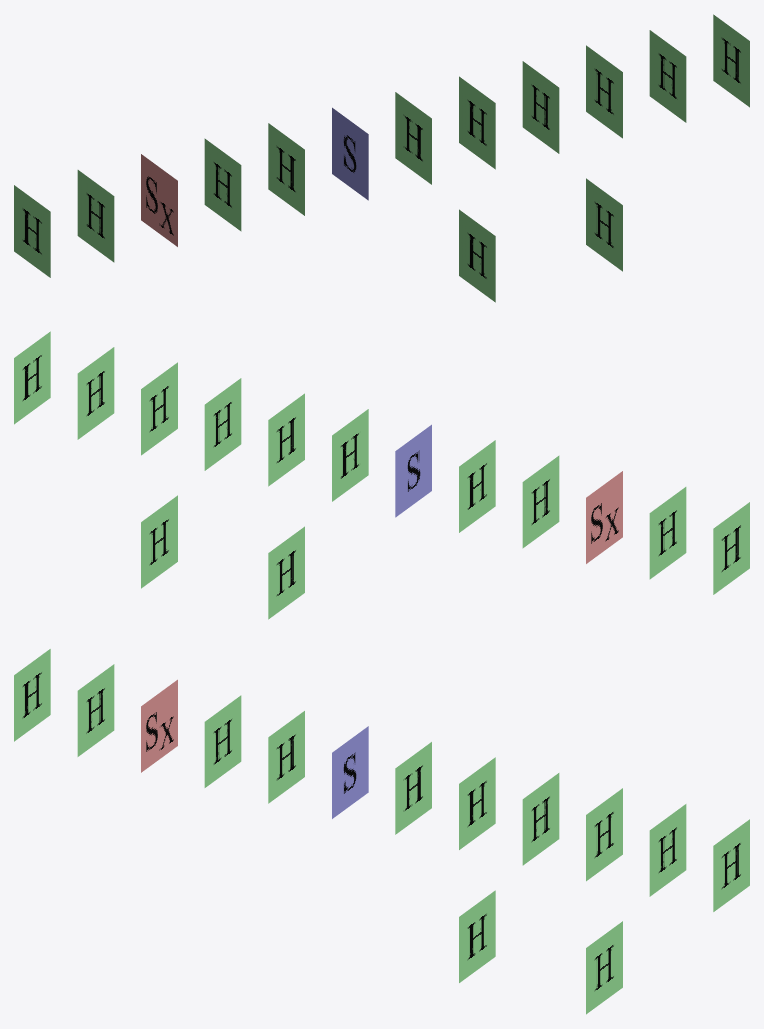
Rendered from tick.gltf.
3 renders of one model, top to bottom at view 1: azimuth 30°, elevation 25°; view 2: azimuth 150°, elevation 25°; view 3: azimuth 330°, elevation 25°, orthographic.
Bounding box in the file's own units: 11 × 3 × 1.
Materials: 1 (1 with a texture image).
